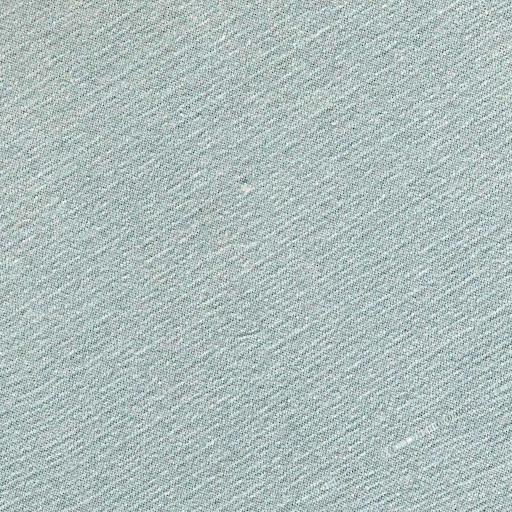knot: (232, 167, 270, 206)
